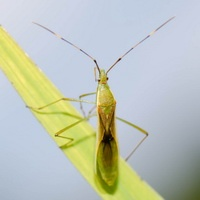insect: (32, 16, 174, 187)
